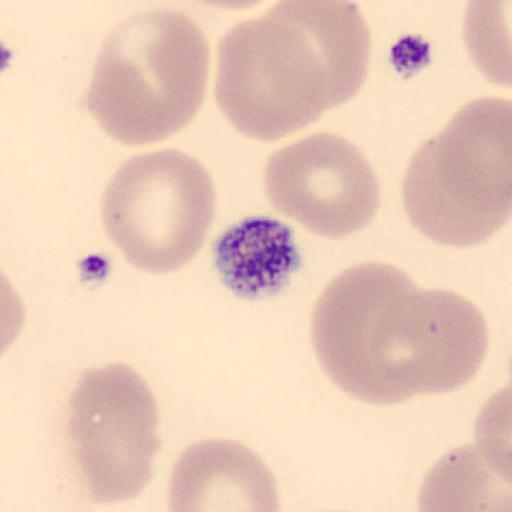Platelet: (208, 211, 306, 302), (385, 29, 436, 81)
RBC: (308, 259, 434, 407), (88, 8, 212, 147), (398, 103, 512, 250), (99, 146, 218, 276), (213, 12, 329, 145), (66, 361, 163, 506), (262, 129, 384, 242), (259, 0, 374, 110), (434, 93, 512, 250), (390, 285, 490, 395), (412, 413, 512, 512), (166, 436, 284, 512), (443, 385, 512, 512), (414, 443, 512, 512), (461, 0, 512, 92), (472, 382, 512, 490), (0, 267, 27, 361), (171, 1, 284, 12)
